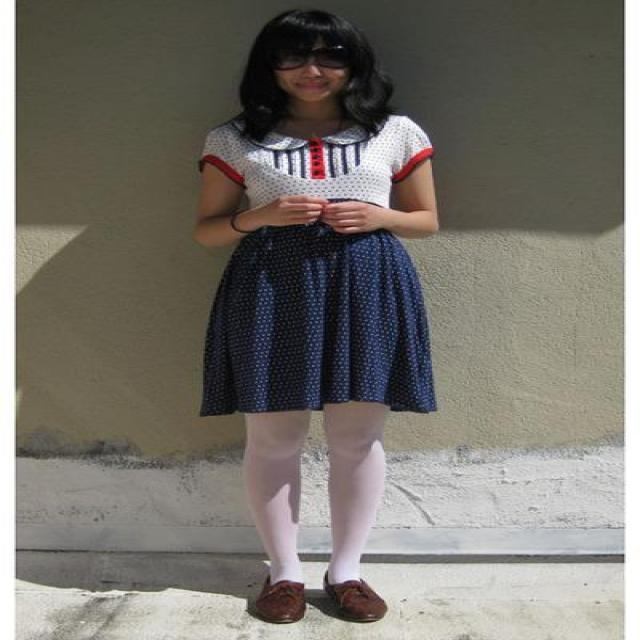shirt: (204, 115, 430, 208)
shoe: (250, 576, 386, 623)
skirt: (200, 218, 435, 416)
